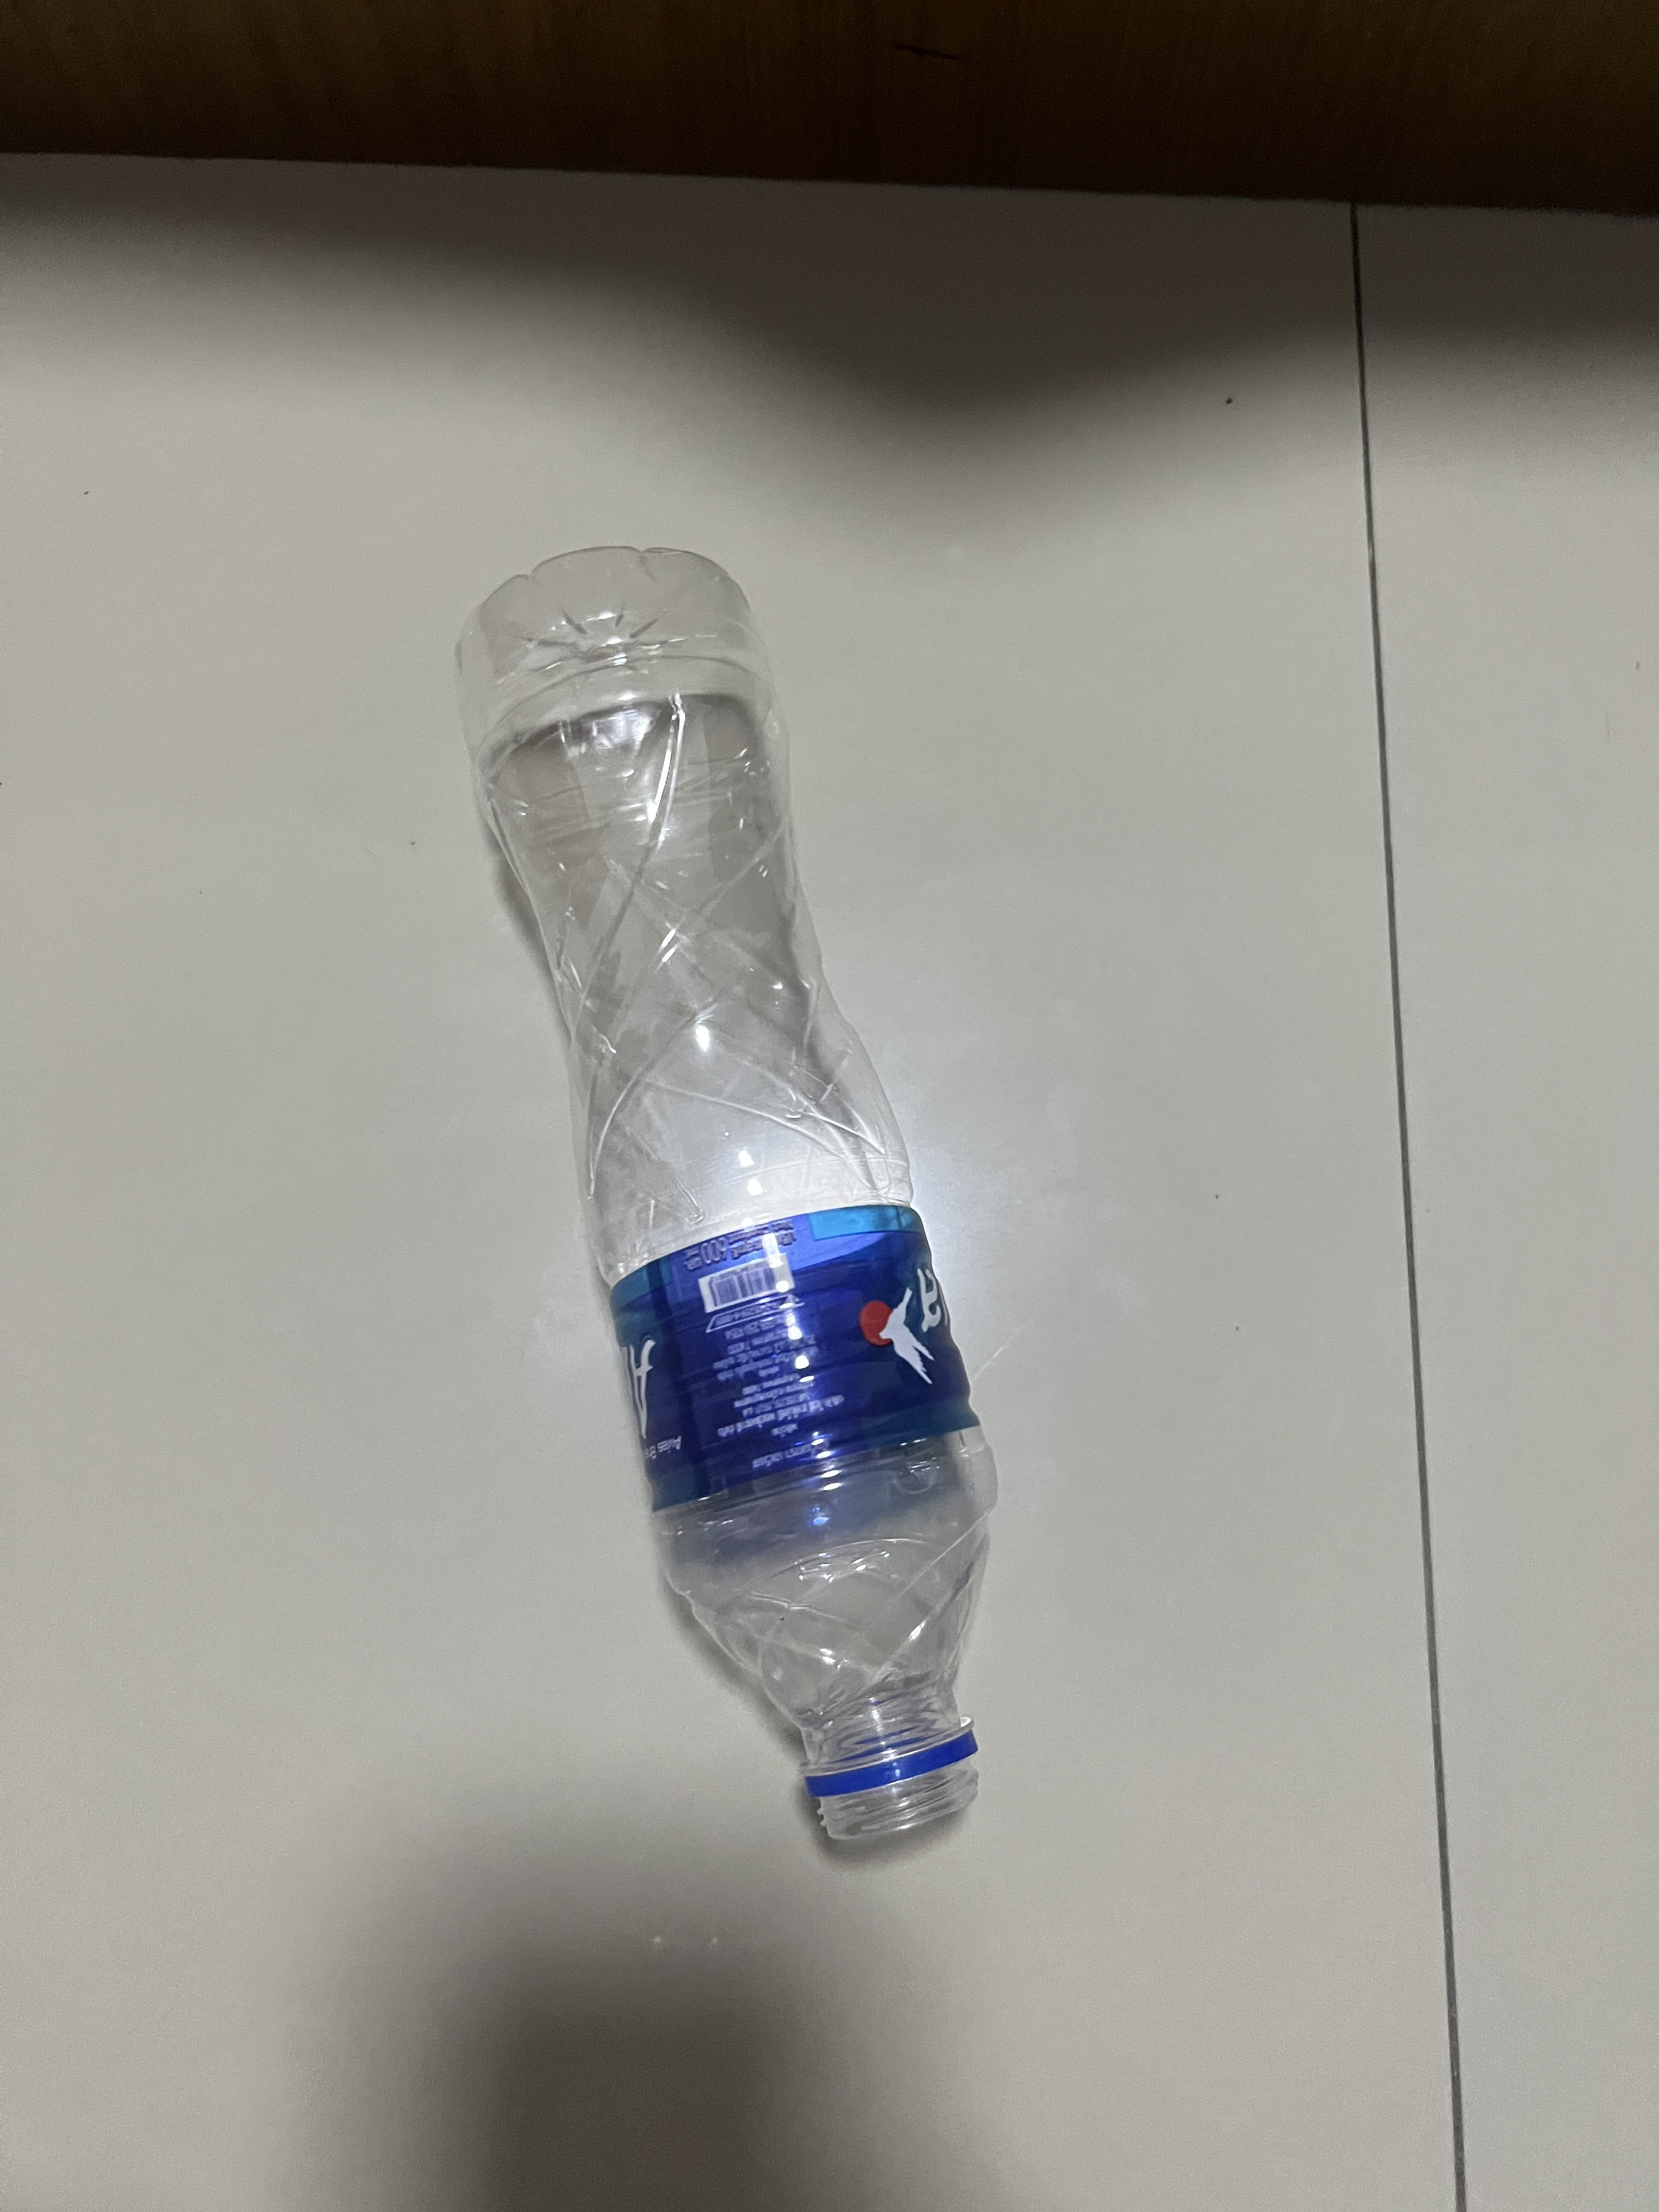plastic_bottle: (432, 519, 1072, 1905)
